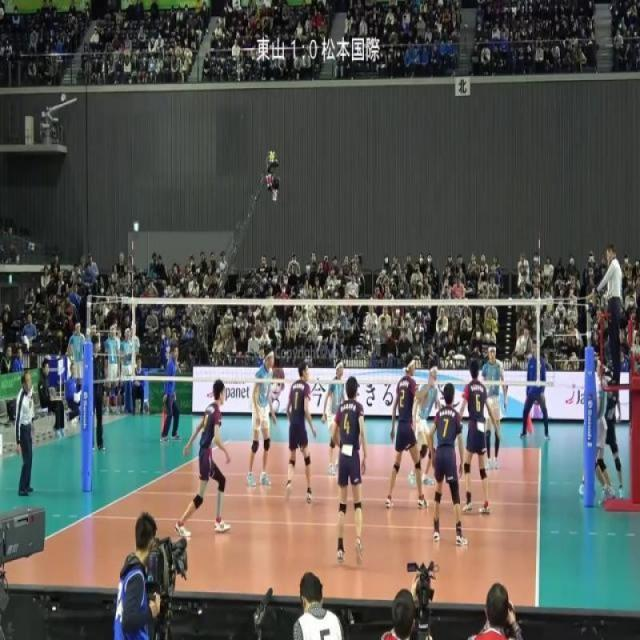volleyball: (514, 334, 528, 356)
